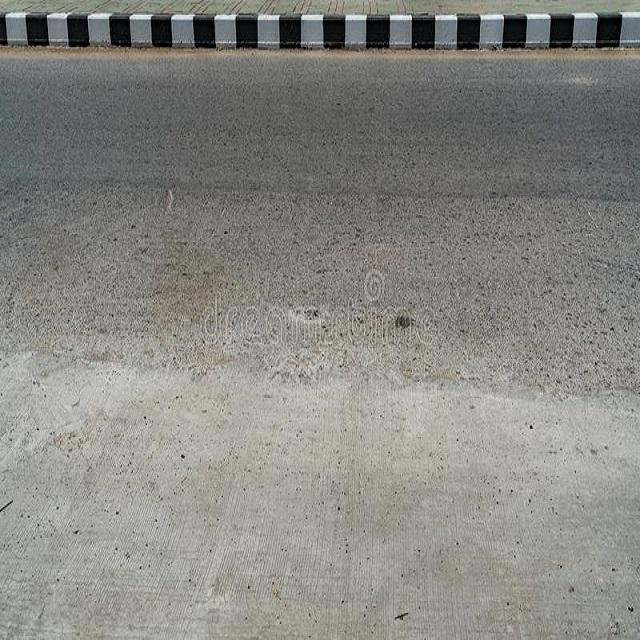curb: (1, 8, 640, 54)
